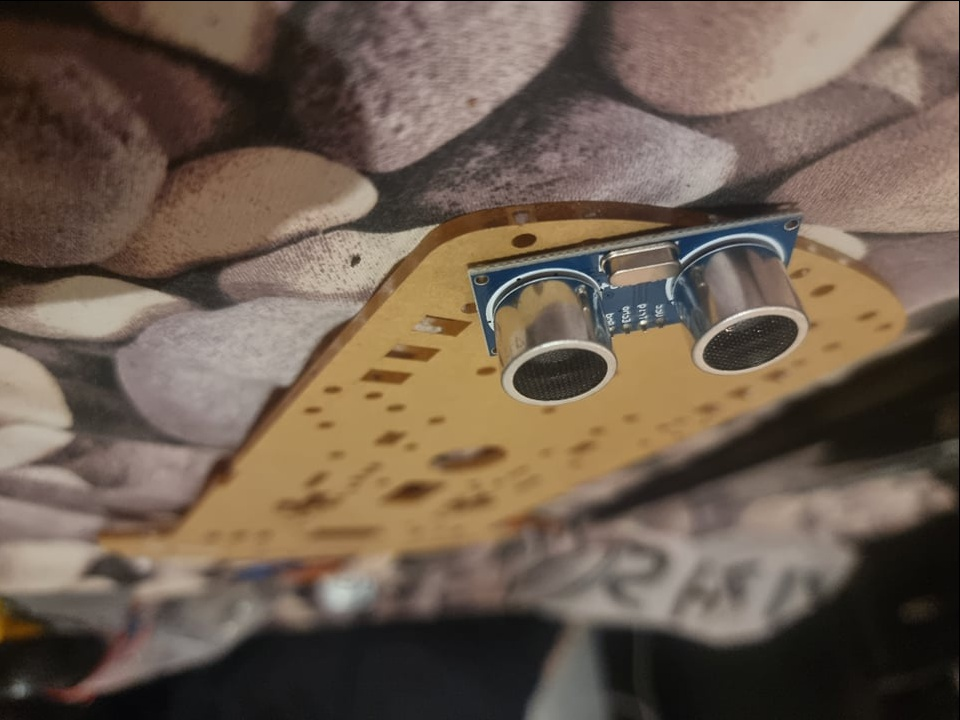SENSOR: (465, 208, 811, 404)
